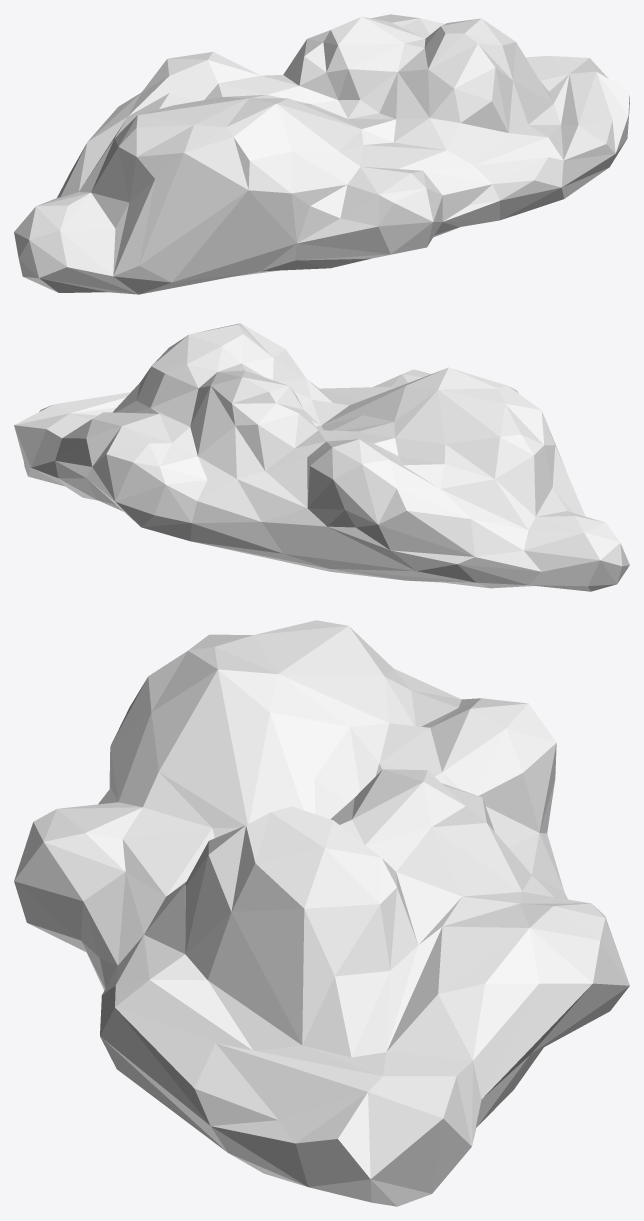
Rendered from SM_Env_Cloud_03.glb.
3 renders of one model, top to bottom at view 1: azimuth 30°, elevation 25°; view 2: azimuth 150°, elevation 25°; view 3: azimuth 270°, elevation 25°, orthographic. The views are drawn at different scales.
Visible parts, largest first — view 1: SM_Env_Cloud_03_part00; view 2: SM_Env_Cloud_03_part00; view 3: SM_Env_Cloud_03_part00.
Boxes of the visible parts, bbox=[...] form: SM_Env_Cloud_03_part00: bbox=[14, 14, 629, 294]; SM_Env_Cloud_03_part00: bbox=[14, 323, 629, 591]; SM_Env_Cloud_03_part00: bbox=[14, 620, 629, 1206].
Size of the model in its own units: 70.3 by 19.84 by 38.87.
Materials: 1 (1 with a texture image).
